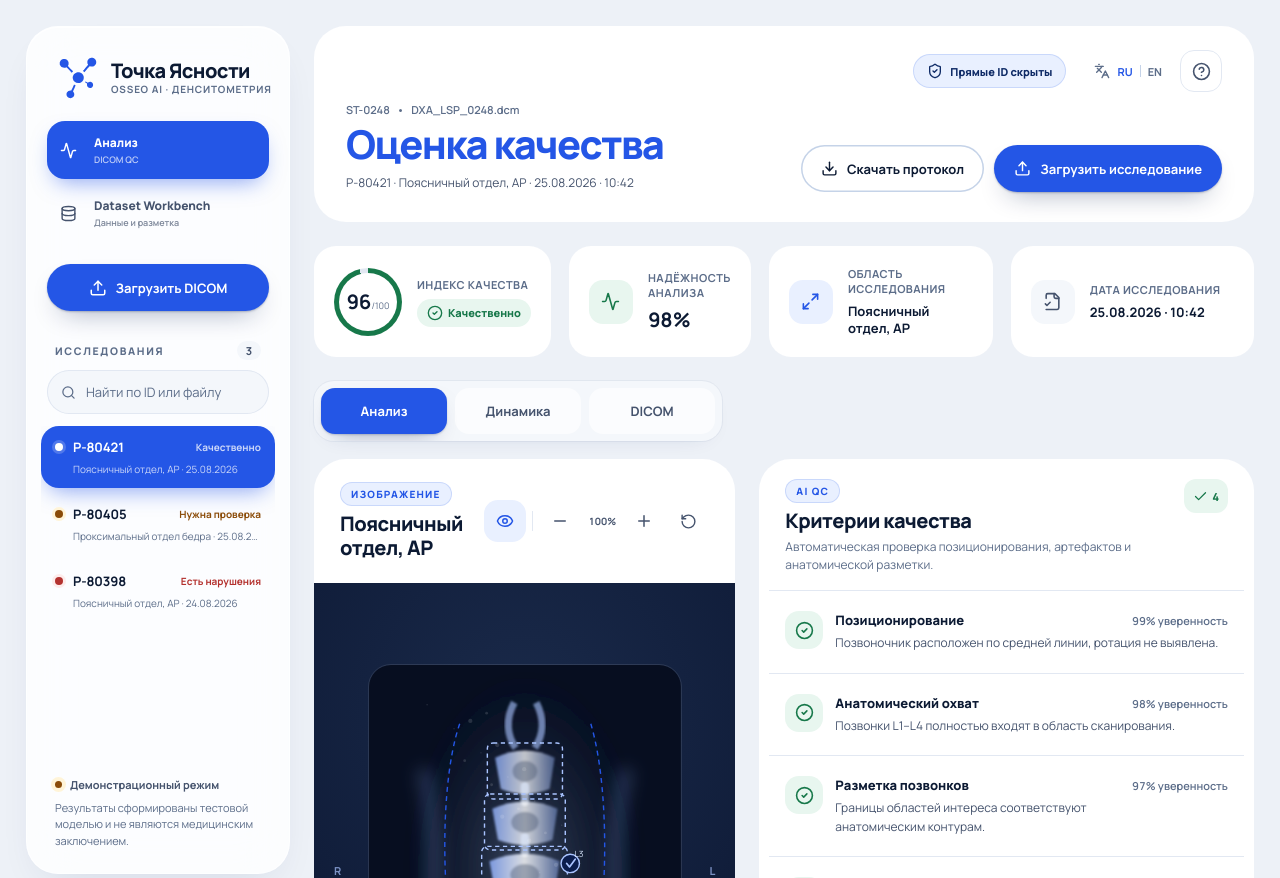
Test: Osseo AI workspace › switches the interface to English
This screenshot has width=1280, height=878.
Click the button named "Switch to English" at (1128, 71), box [1084,52,1172,90]
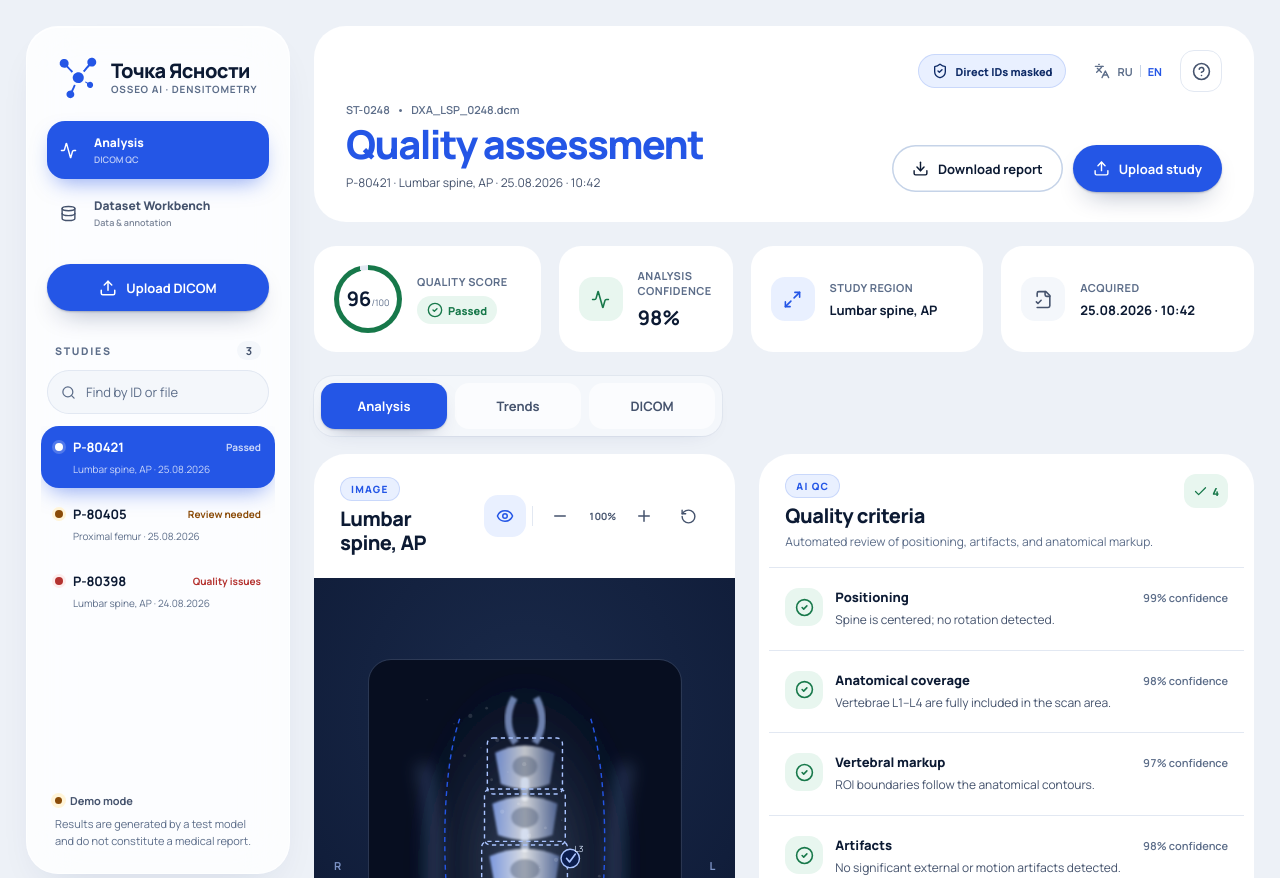
Check: the heading "Quality assessment" is shown, box [346,124,703,165]
Check: the heading "Quality criteria" is shown, box [785,502,925,529]
